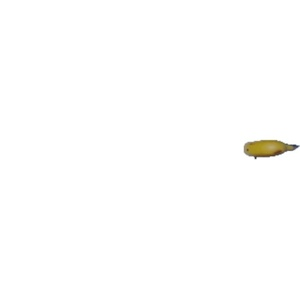banana: (241, 136, 299, 160)
